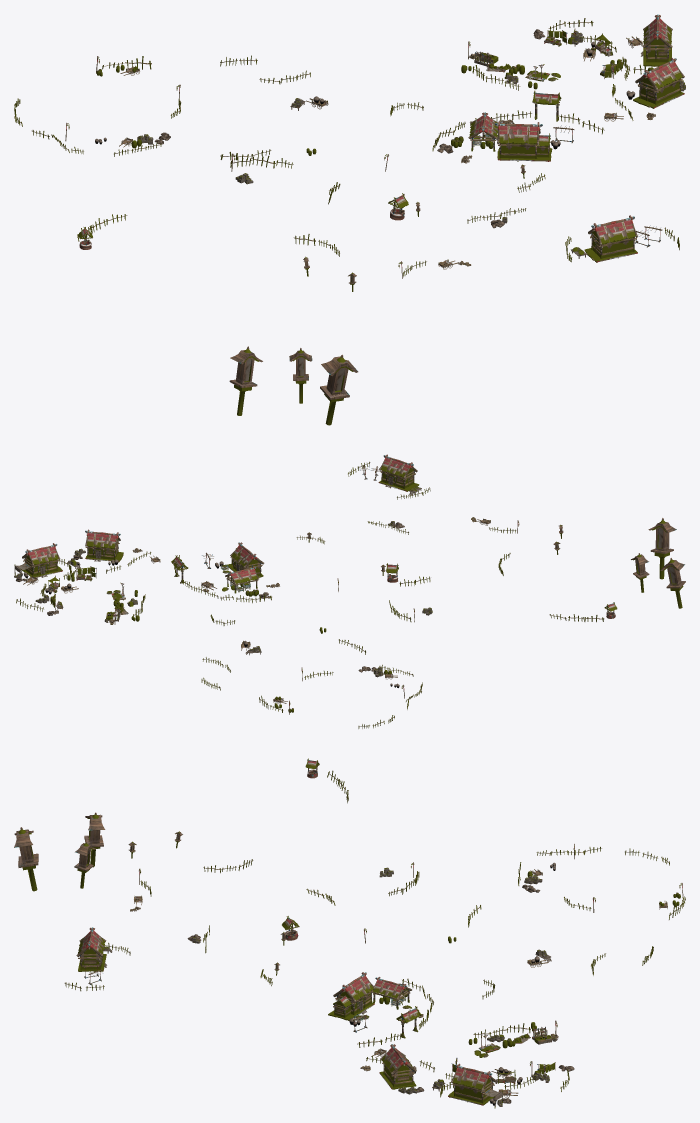
Rendered from all_handan_field_b_r01.fbx.
3 views of the same model, one above another, from view 1: azimuth 30°, elevation 25°; view 2: azimuth 150°, elevation 25°; view 3: azimuth 270°, elevation 25° (orthographic). The views are drawn at different scales.
Parts seen in each view (by area): view 1: all_handan_field_b_r01:all_handan_field_b_r01; view 2: all_handan_field_b_r01:all_handan_field_b_r01; view 3: all_handan_field_b_r01:all_handan_field_b_r01.
Part boxes in pixels (x1,y1,x2,y2): all_handan_field_b_r01:all_handan_field_b_r01: (14, 14, 685, 425); all_handan_field_b_r01:all_handan_field_b_r01: (14, 454, 685, 728); all_handan_field_b_r01:all_handan_field_b_r01: (14, 758, 685, 1108).
Bounding box in the file's own units: 16593 × 2425 × 15561.
